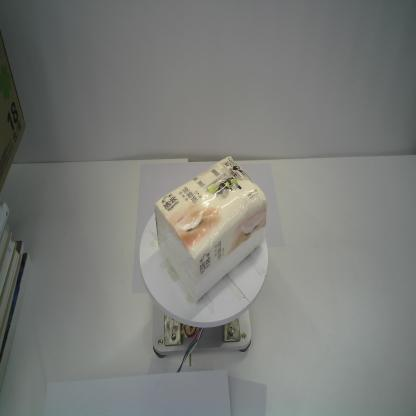Tissue: (152, 155, 269, 306)
